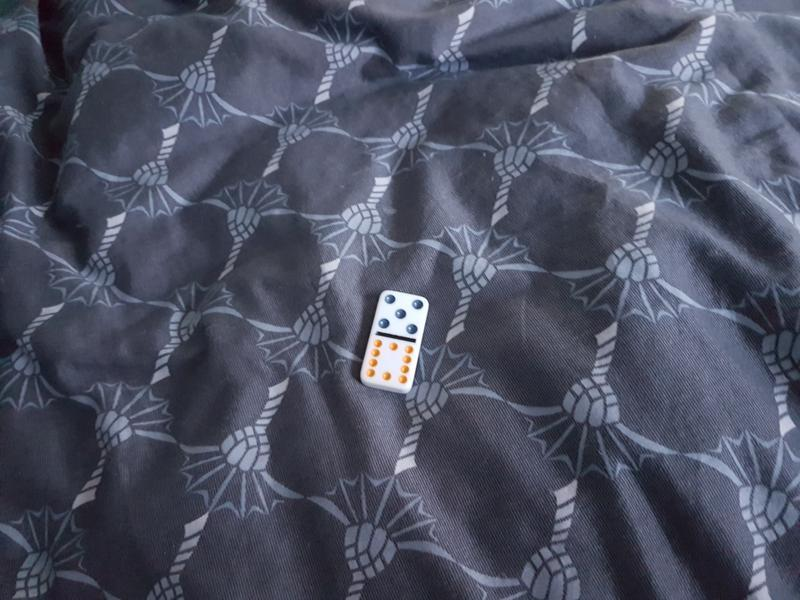Domino: (357, 288, 431, 396)
